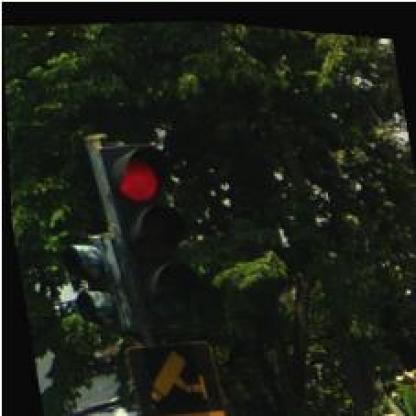red: (96, 131, 212, 334)
